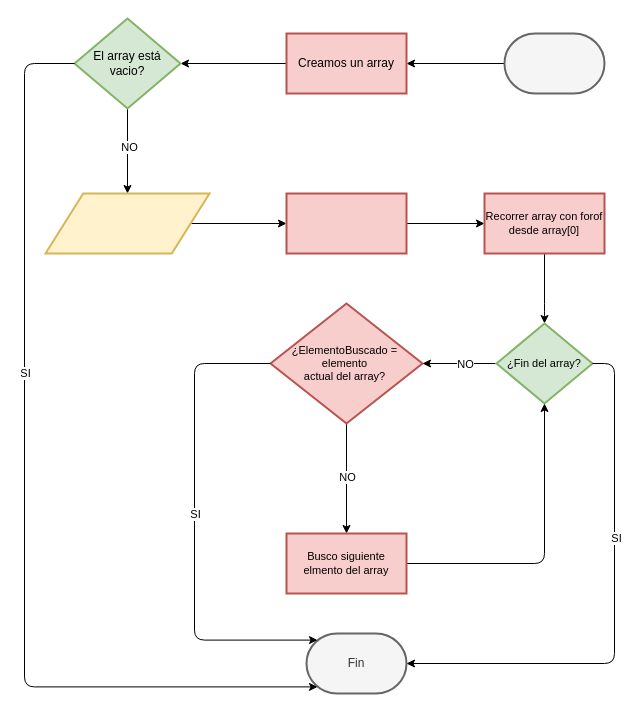
Image size: 640x712. Some labels were removed from this diagram. The shapes that lost their labels are listed below. From the top down, each one's box as (x1, y1, x2, y2) in pixels, then its label:
(503, 32, 605, 94): Inicio
(44, 192, 210, 254): Preguntamos el elemento a buscar
(285, 192, 407, 254): Elemento a buscar = elementoBuscado
